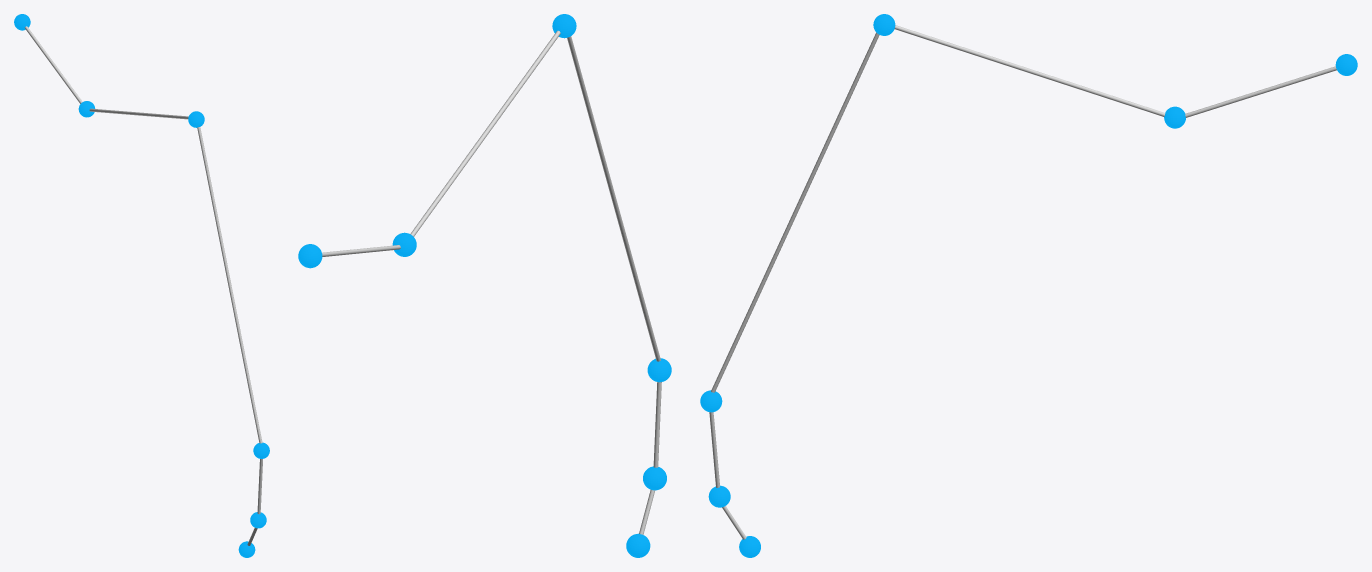
3 views of the same model, side by side, from view 1: azimuth 30°, elevation 25°; view 2: azimuth 150°, elevation 25°; view 3: azimuth 270°, elevation 25° (orthographic). The views are drawn at different scales.
Visible parts, largest first — view 1: BézierCurve.001, Sphere.002; view 2: BézierCurve.001, Sphere.002; view 3: BézierCurve.001, Sphere.002.
Part boxes in pixels (x1=…): BézierCurve.001: x1=25, y1=26, x2=262, y2=545; Sphere.002: x1=14, y1=14, x2=269, y2=557; BézierCurve.001: x1=322, y1=30, x2=661, y2=534; Sphere.002: x1=298, y1=14, x2=671, y2=557; BézierCurve.001: x1=709, y1=25, x2=1336, y2=539; Sphere.002: x1=700, y1=14, x2=1357, y2=557.
Size of the model in its own units: 0.1039 by 2.82 by 3.1.
